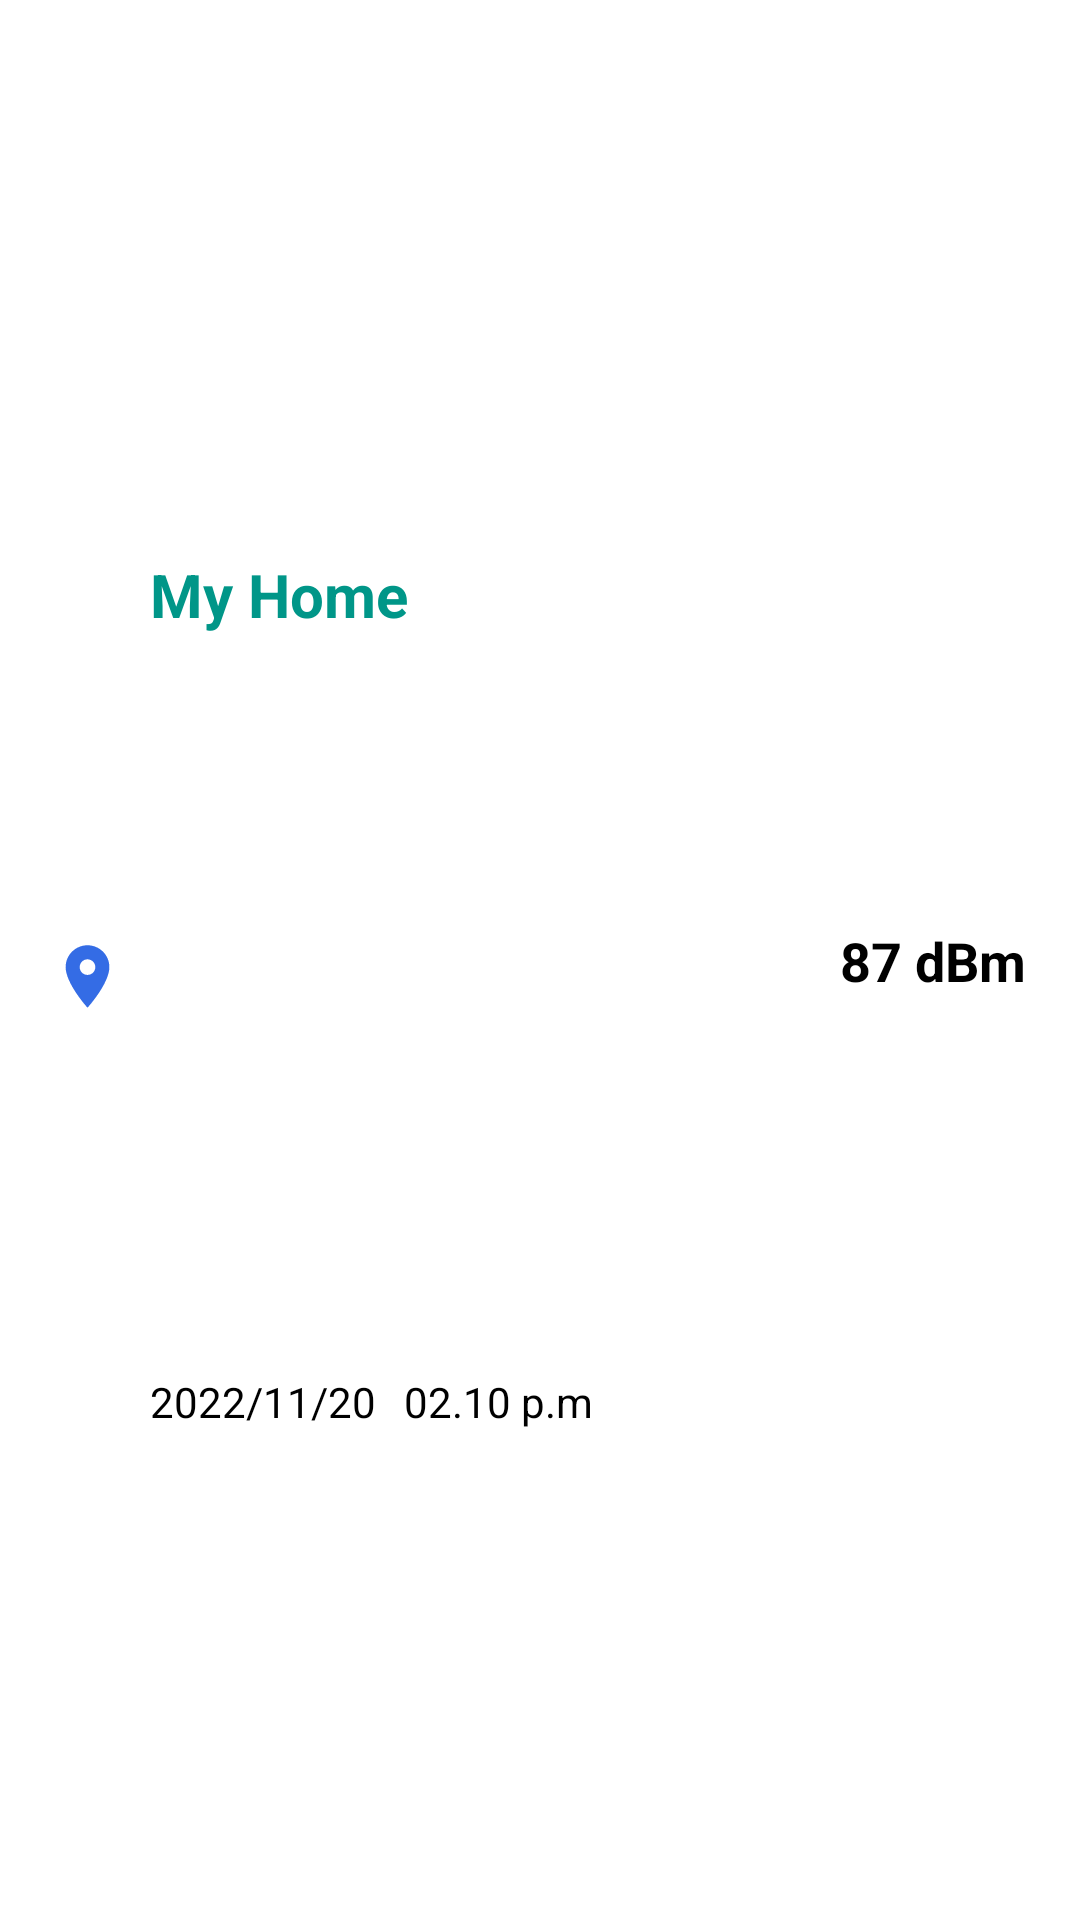

Screen size 1080px×1920px. Icon name, then its center in pixels as point (x, y):
location: point (87, 976)
